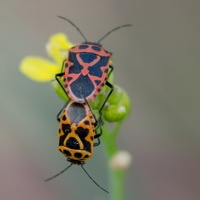insect: (45, 16, 131, 199), (55, 16, 131, 137), (45, 73, 113, 192)
